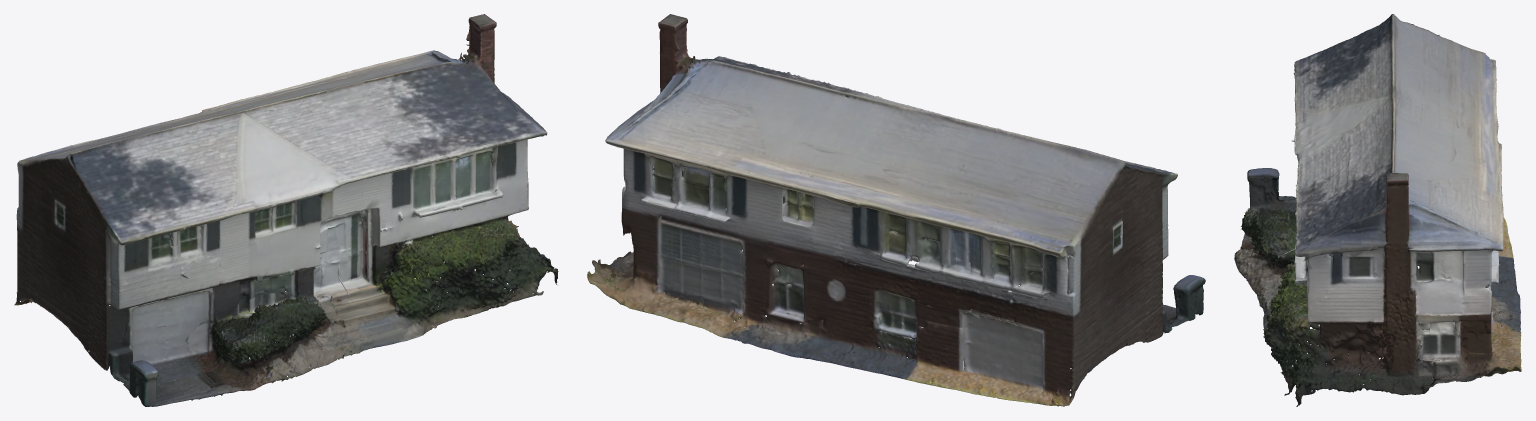
File: grammys.glb
The picture shows the model from 3 angles, left to right: view 1: azimuth 30°, elevation 25°; view 2: azimuth 150°, elevation 25°; view 3: azimuth 270°, elevation 25°; orthographic projection. The views are drawn at different scales.
Bounding box in the file's own units: 2.01 × 1.02 × 1.19.
Materials: 1 (1 with a texture image).
